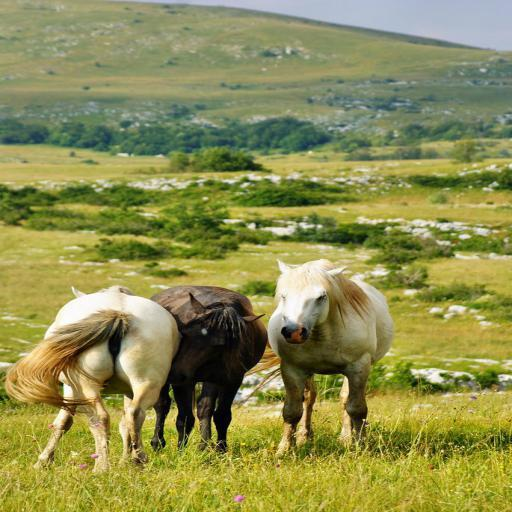horse: (1, 286, 182, 470), (267, 260, 393, 460), (148, 286, 268, 456)
